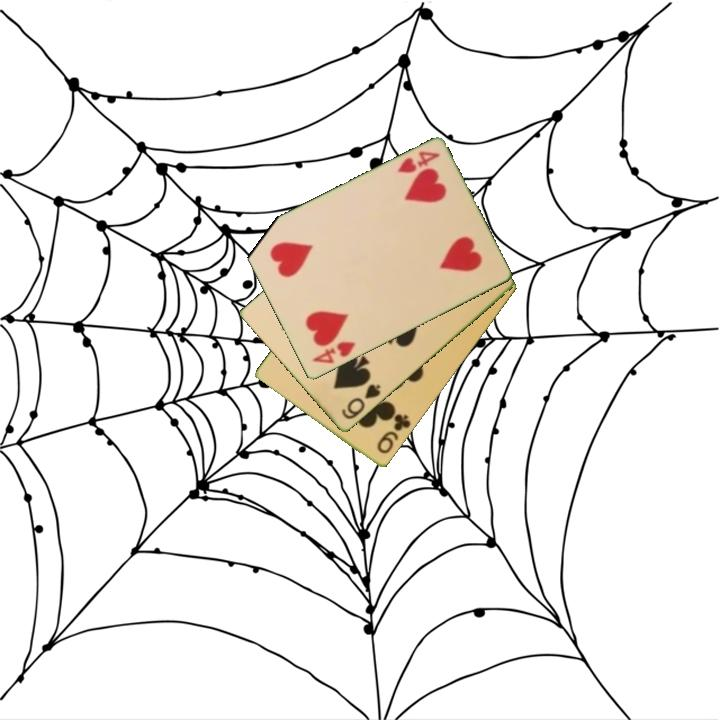4h: (308, 338, 358, 367), (394, 148, 443, 176)
6s: (338, 381, 384, 423)
9c: (373, 410, 414, 457)
